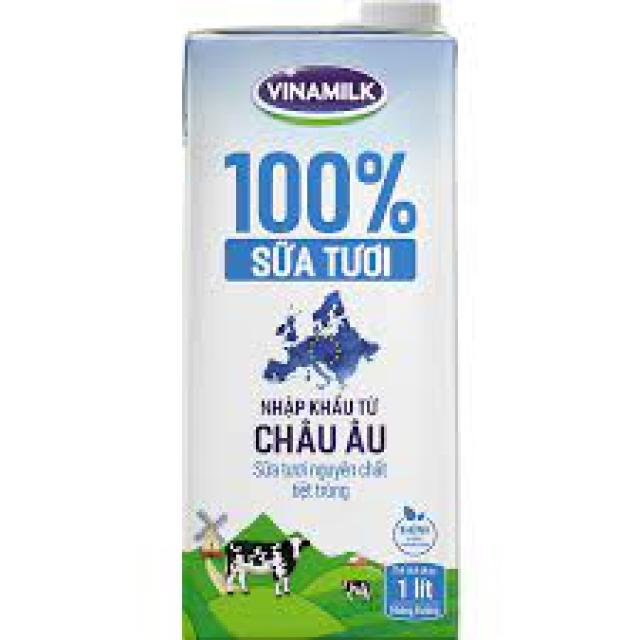non_white_jug: (166, 11, 474, 640)
